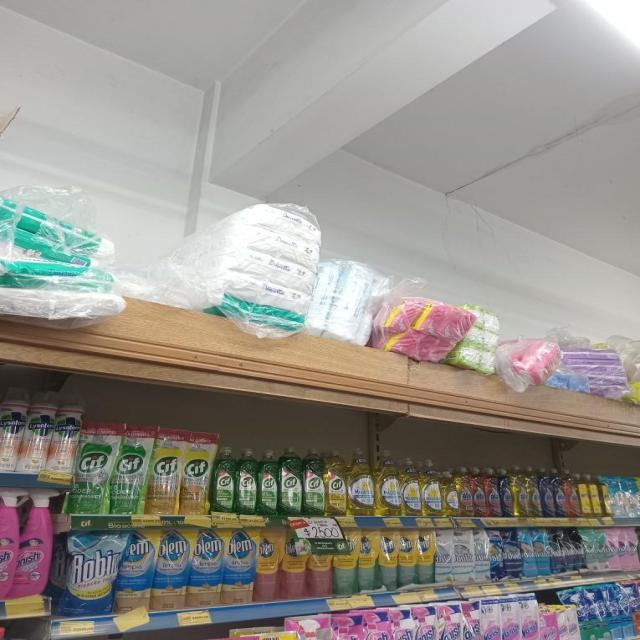ala_conc_amarillo: (513, 466, 528, 518), (528, 466, 541, 518)
ala_conc_azul: (565, 470, 579, 518), (541, 468, 553, 517), (554, 468, 565, 518), (500, 467, 511, 517)
ala_conc_rojo: (458, 466, 472, 517), (486, 467, 500, 517), (472, 467, 485, 517)
cif_conc_bot_amarilla: (324, 448, 346, 517)
cif_conc_botella_verde: (279, 447, 302, 516), (212, 446, 235, 514), (236, 448, 258, 515), (303, 447, 324, 516), (258, 448, 278, 516)
cif_conc_sachet_amarillo: (148, 427, 180, 516), (181, 429, 211, 516)
cif_conc_sachet_verde: (72, 422, 110, 515), (110, 424, 146, 515)
magistral_con_amarillo: (347, 448, 374, 516), (375, 449, 400, 516), (422, 459, 442, 516), (401, 457, 420, 516), (442, 467, 458, 517)
